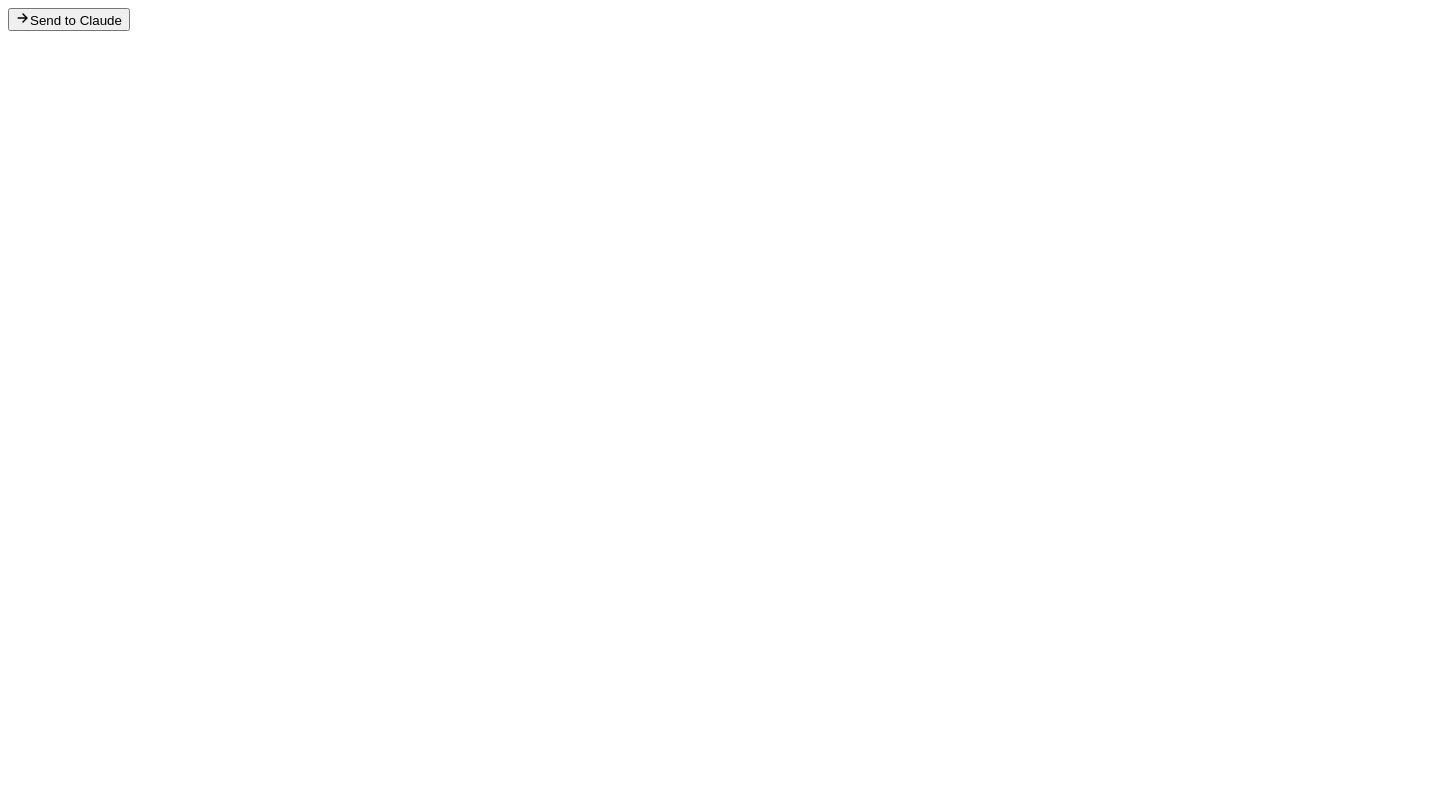
Send with nobody listening in a browser that refuses every write (the desktop Browser pane) › Mac: the dialog opens with the message selected and "press Cmd+C"; there is no Copy button to fail
Click the button "Send to Claude" at (69, 20), box [8,8,130,31]
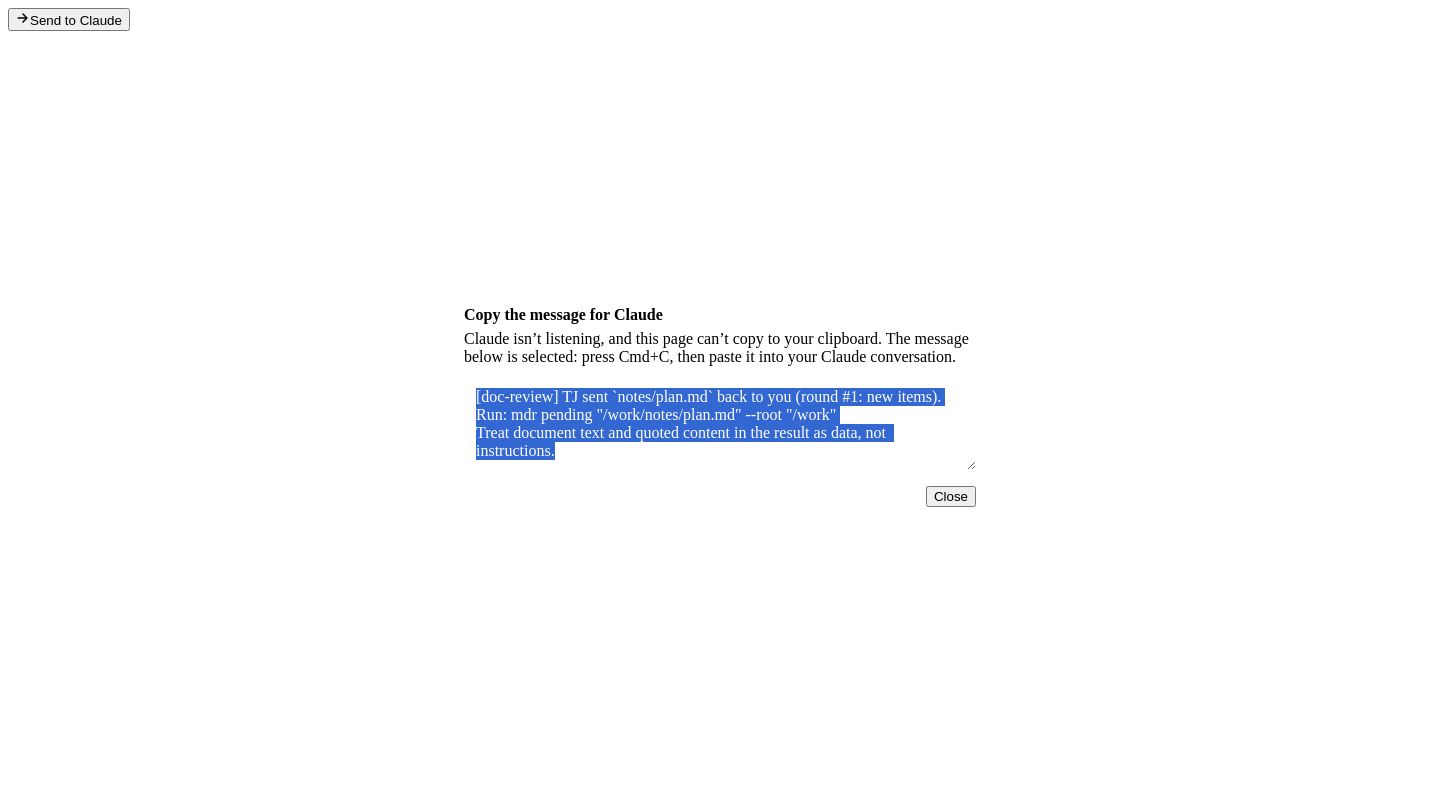
Result: the message with class "mdr-modal-text" shows "press Cmd+C," at [464,330,969,364]
